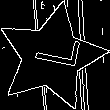L_W: (23, 36, 80, 77)
